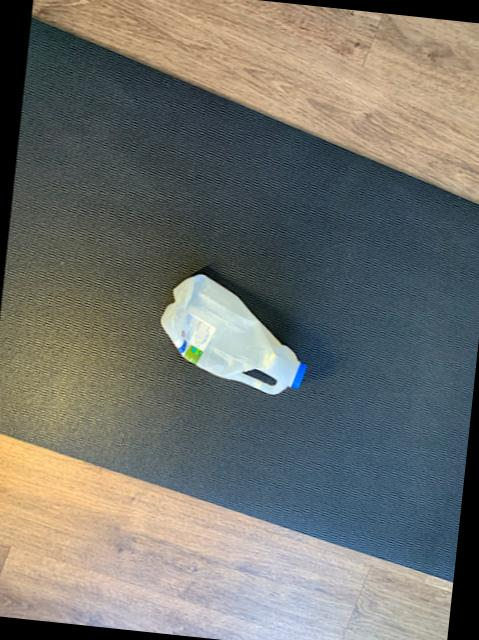plastic: (162, 276, 307, 396)
